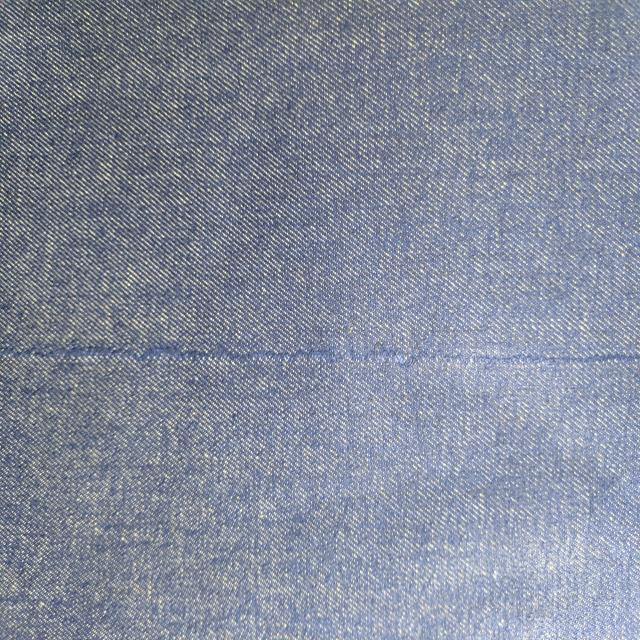Line: (0, 340, 640, 366)
